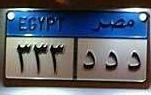3: (49, 41, 65, 76), (14, 42, 31, 74), (32, 42, 47, 75)
daal: (125, 49, 142, 74), (103, 49, 120, 72), (82, 48, 97, 72)
